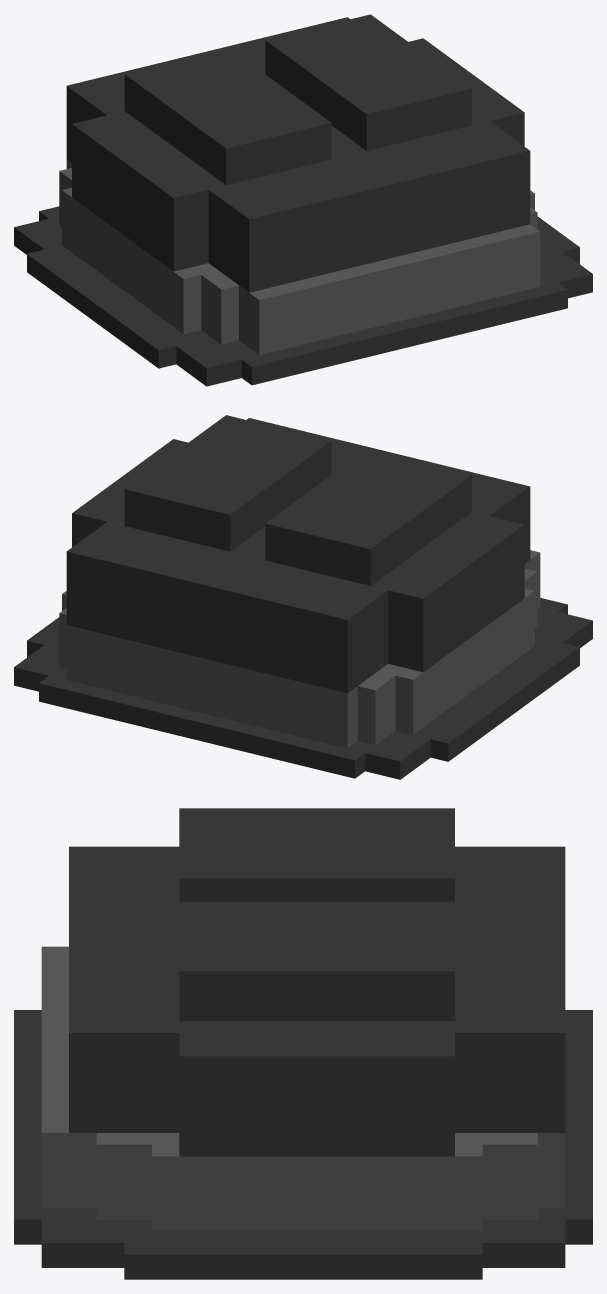
3 renders of one model, top to bottom at view 1: azimuth 30°, elevation 25°; view 2: azimuth 150°, elevation 25°; view 3: azimuth 270°, elevation 25°, orthographic. The views are drawn at different scales.
Parts seen in each view (by area): view 1: 59; view 2: 59; view 3: 59.
Boxes of the visible parts, box(x1,y1,x2,y2) form: 59: box(14, 14, 592, 386); 59: box(14, 415, 592, 779); 59: box(14, 808, 592, 1279).
Size of the model in its own units: 0.9449 by 0.3937 by 0.8268.
Materials: 1 (1 with a texture image).
